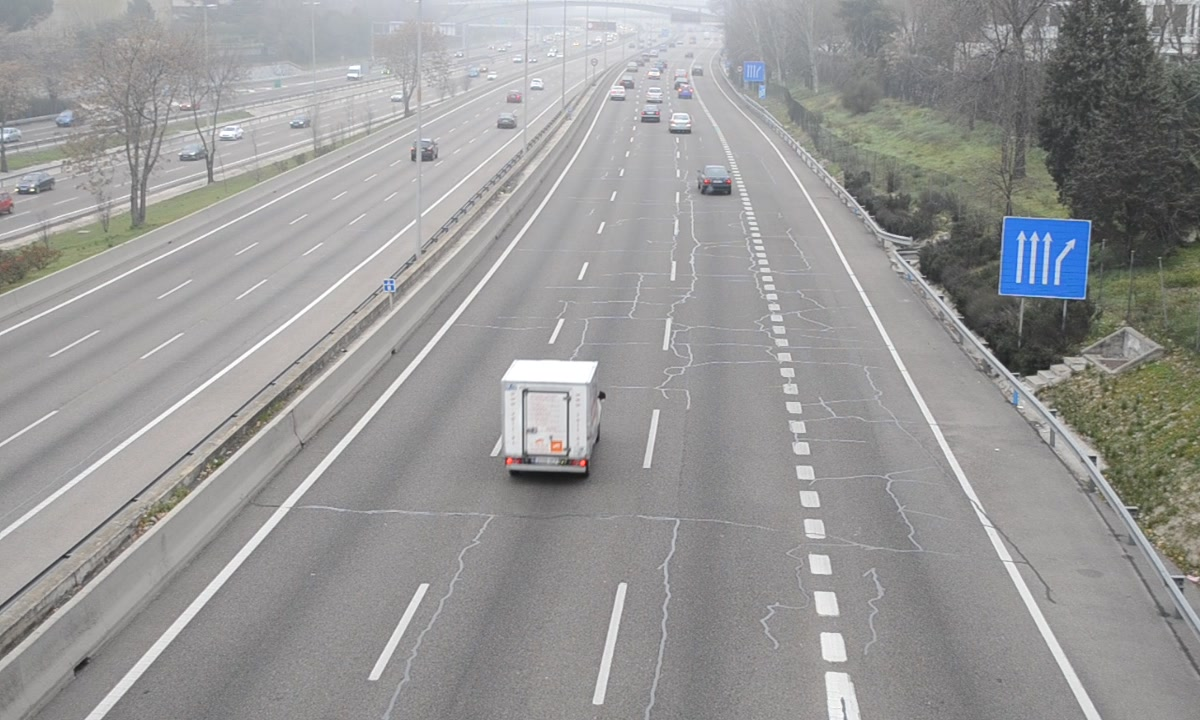car: (698, 163, 734, 193)
small-truck: (504, 361, 605, 473)
